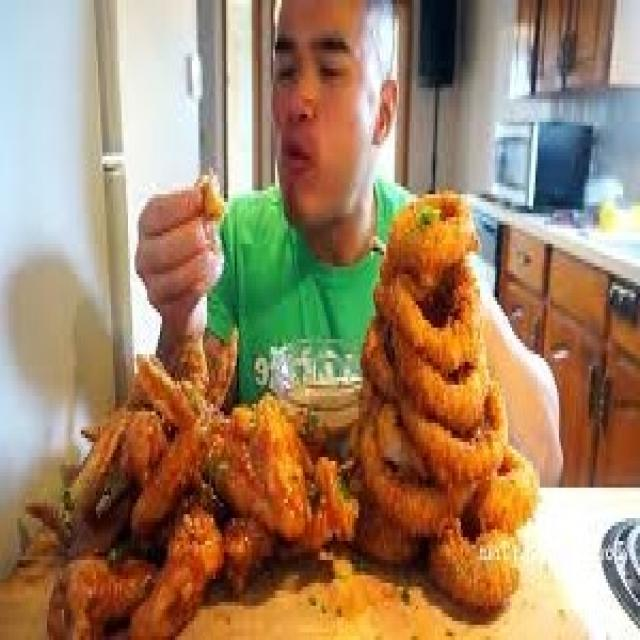Chicken Wings: (47, 324, 352, 640)
Onion Rings: (352, 179, 544, 627)
